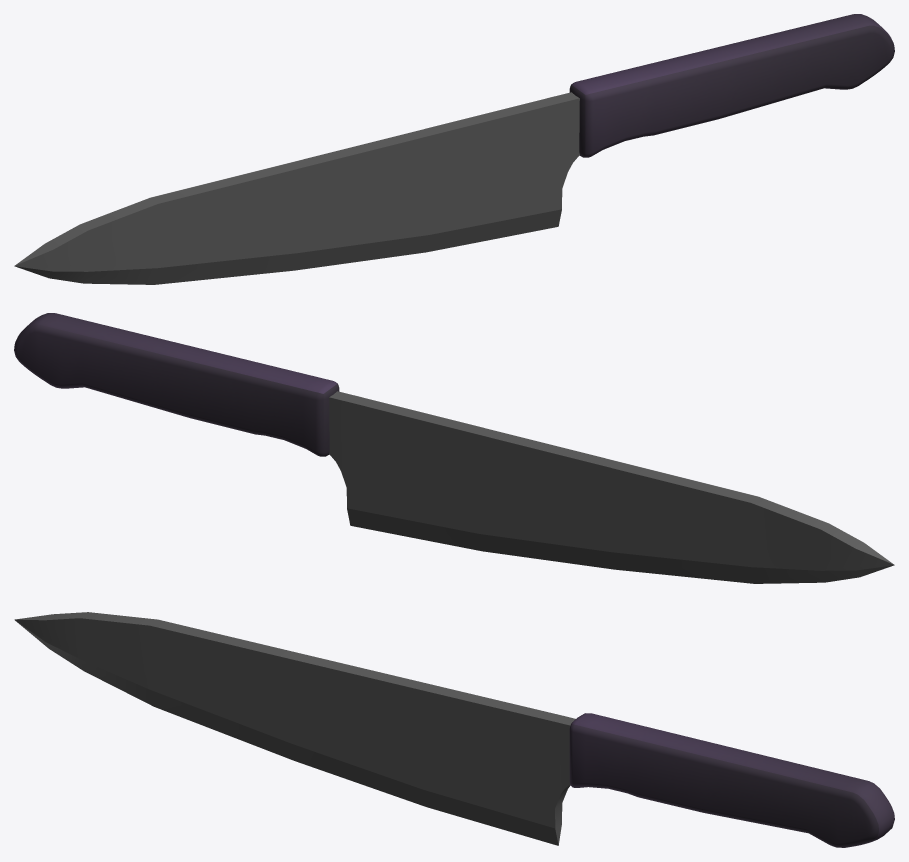
File: knife.fbx
3 renders of one model, top to bottom at view 1: azimuth 30°, elevation 25°; view 2: azimuth 150°, elevation 25°; view 3: azimuth 330°, elevation 25°, orthographic.
Visible parts, largest first — view 1: Blade; view 2: Blade; view 3: Blade.
Part boxes in pixels (x1,y1,x2,y2): Blade: (14,14,894,284); Blade: (14,313,894,583); Blade: (14,612,894,847).
Size of the model in its own units: 15.86 by 397 by 58.61.
